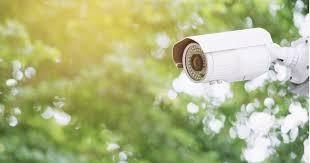tutu: (169, 26, 277, 88)
